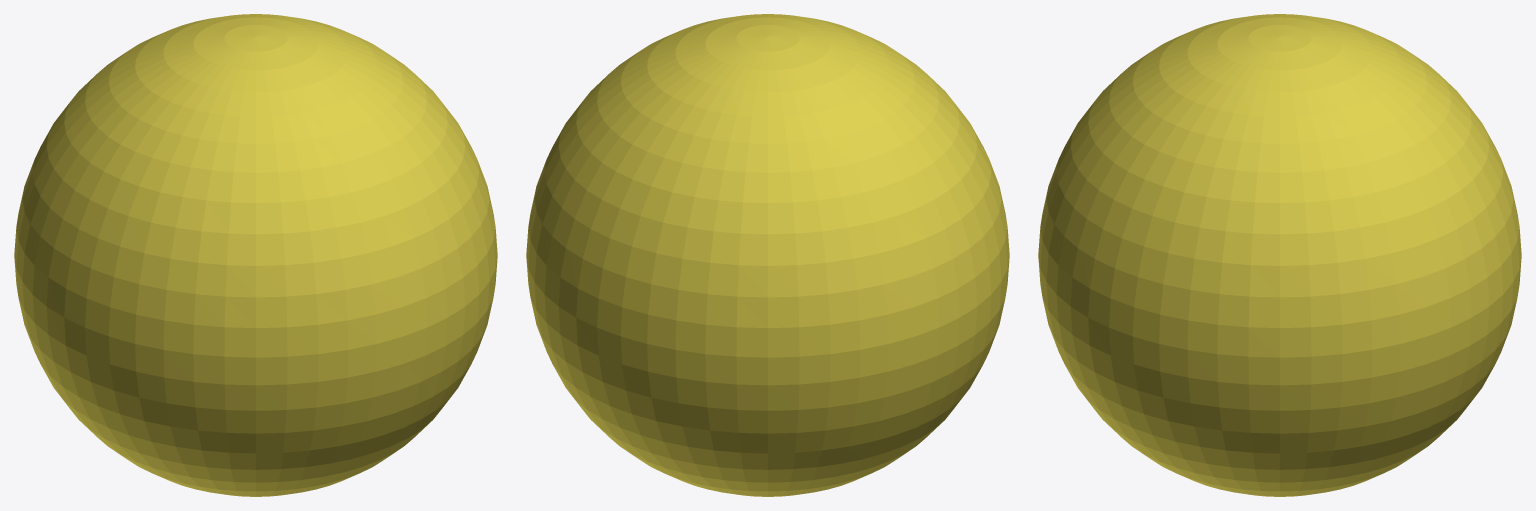
The model's file is sun.glb.
The picture shows the model from 3 angles, left to right: view 1: azimuth 30°, elevation 25°; view 2: azimuth 150°, elevation 25°; view 3: azimuth 270°, elevation 25°; orthographic projection.
Parts seen in each view (by area): view 1: Mesh_Mesh_head_geo.001_lambert2SG.001; view 2: Mesh_Mesh_head_geo.001_lambert2SG.001; view 3: Mesh_Mesh_head_geo.001_lambert2SG.001.
Boxes of the visible parts, x1,y1,x2,y2 form: Mesh_Mesh_head_geo.001_lambert2SG.001: (14,14,497,496); Mesh_Mesh_head_geo.001_lambert2SG.001: (526,14,1009,496); Mesh_Mesh_head_geo.001_lambert2SG.001: (1038,14,1521,496).
Size of the model in its own units: 0.2 by 0.2 by 0.2.
